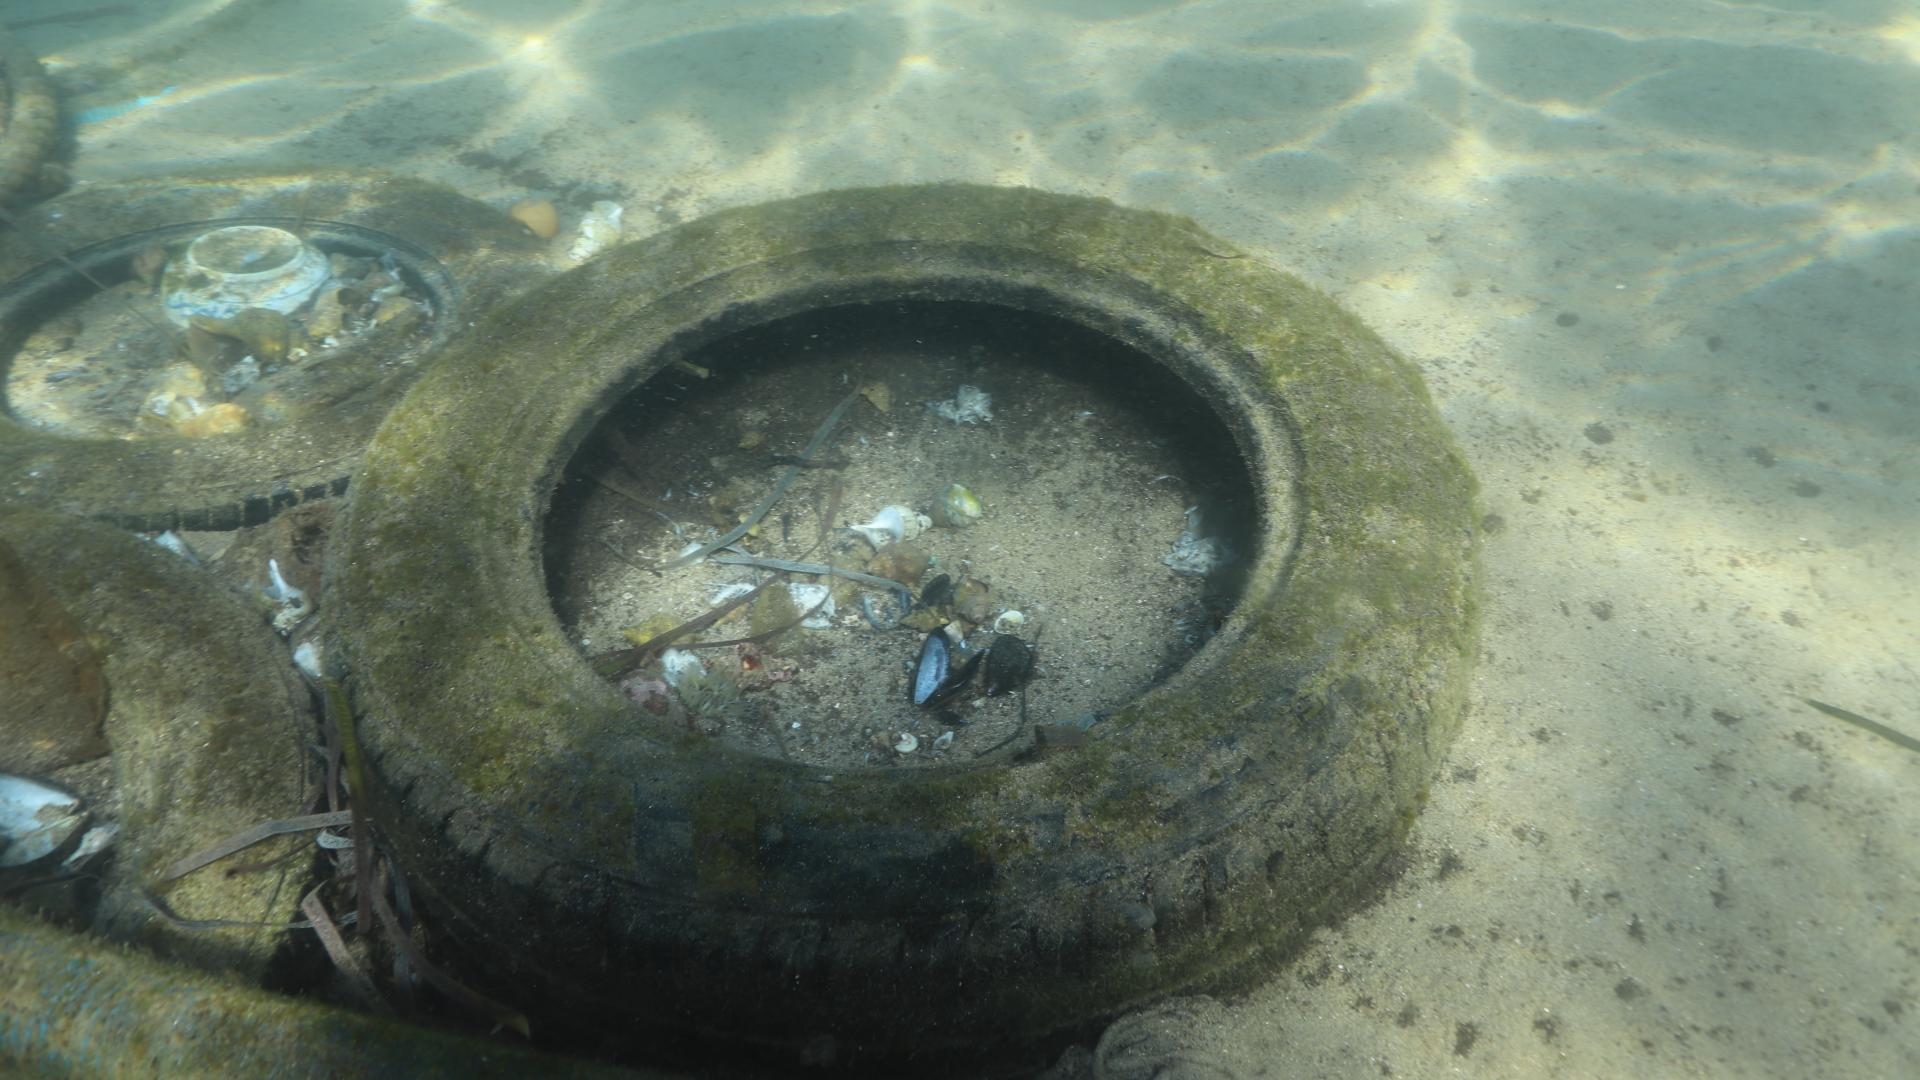tire: (316, 179, 1476, 1080), (0, 167, 562, 531)
